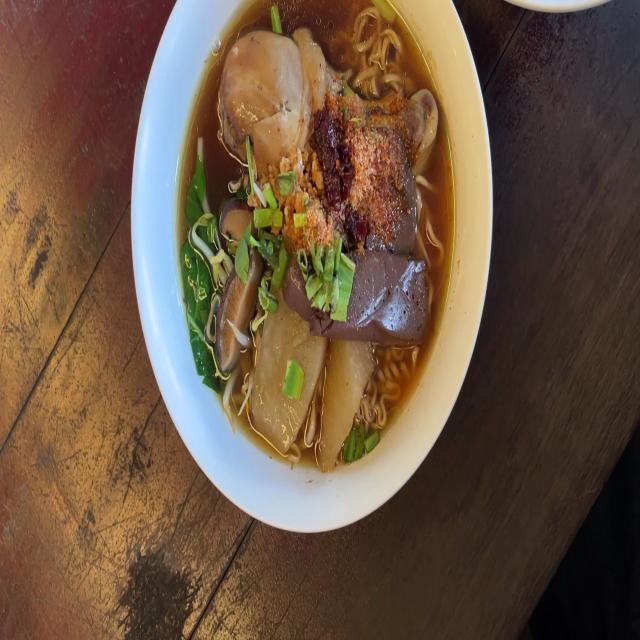noodle: (341, 246, 434, 336)
